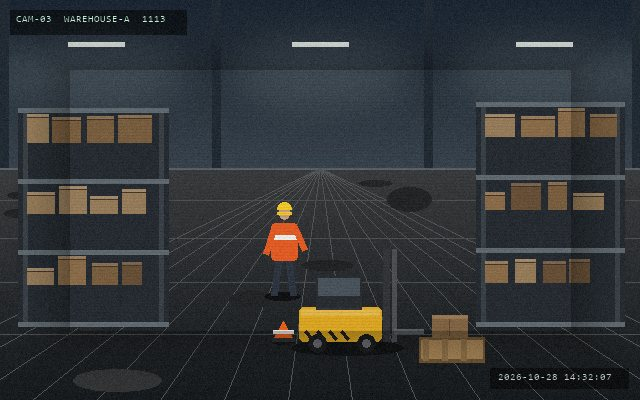cone: (271, 319, 295, 344)
forklift: (295, 247, 425, 355)
pallet: (417, 335, 486, 364)
person: (263, 200, 306, 299)
shelf: (476, 102, 624, 322), (18, 108, 168, 322)
